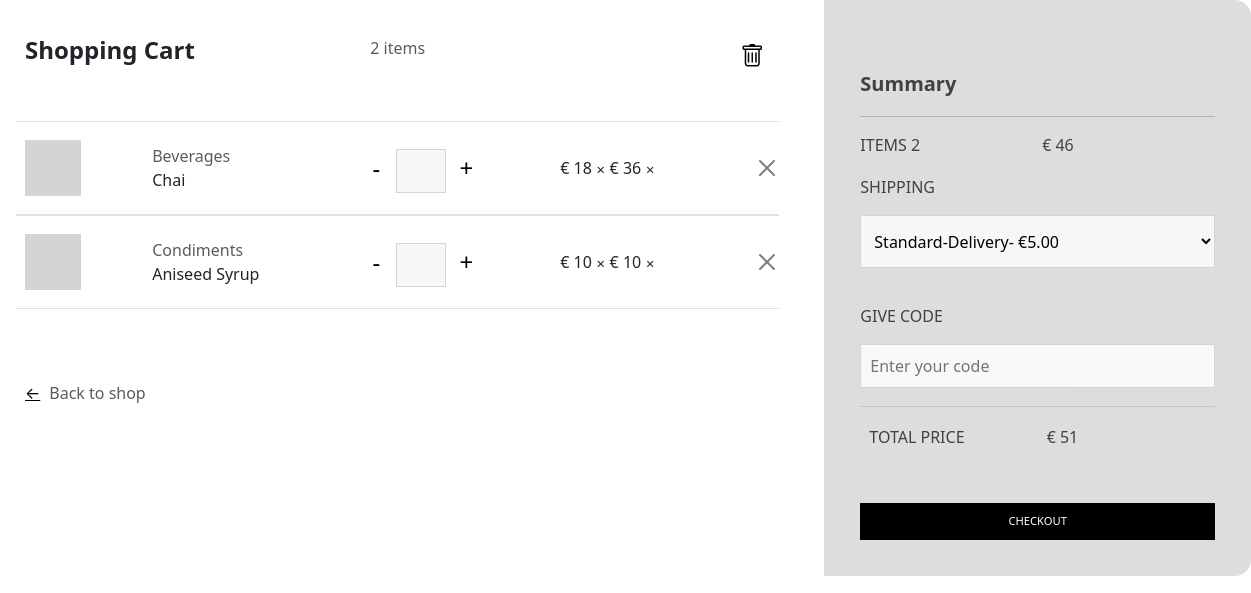
Test: CartComponent › typing a quantity sends it, and a failed update restores the confirmed value
In the number field with class "cart-counter-input" next to "€ 18": (421, 171) [396, 149, 446, 193], type "5"
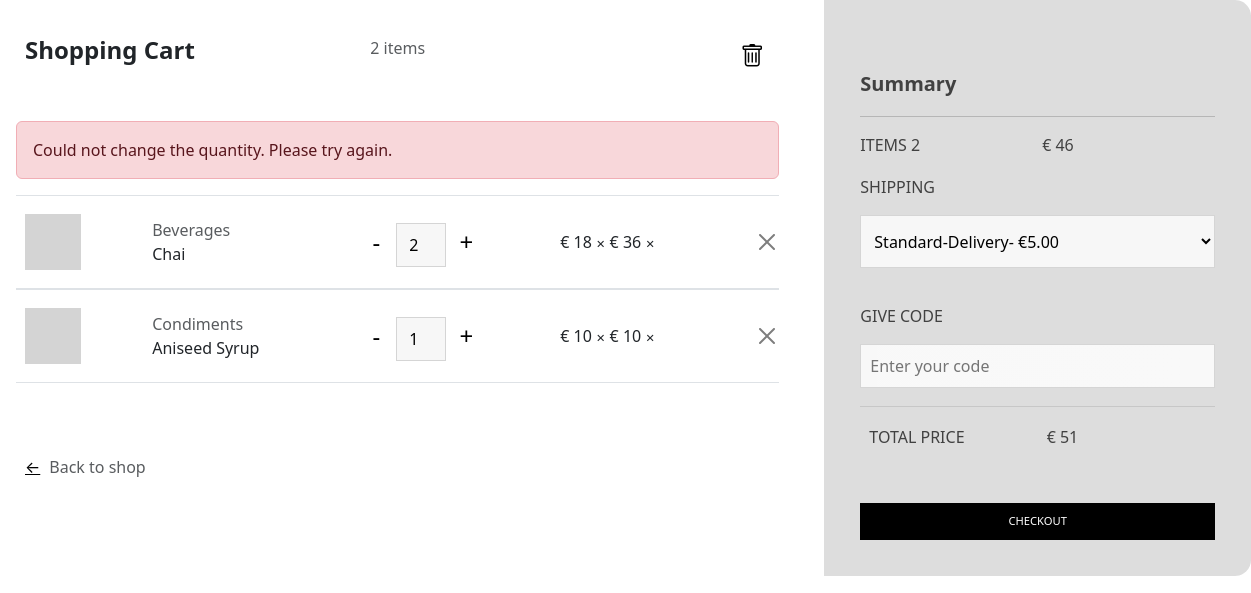
expect the text "ITEMS 2 € 46" is shown: met, box [860, 134, 1074, 156]
expect the number field with class "cart-counter-input" next to "€ 18" holds "2": met, box [396, 223, 446, 267]
